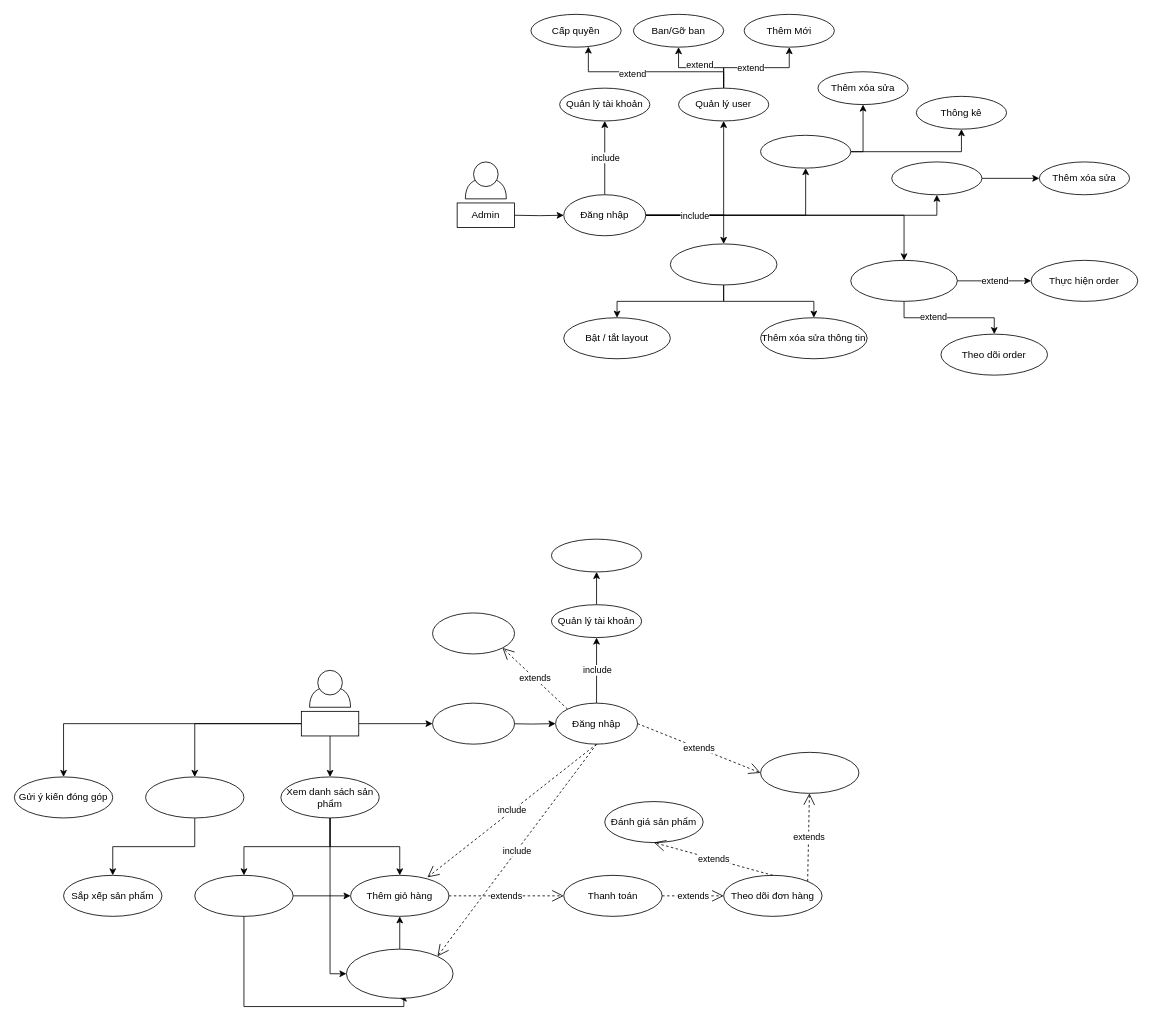
Some shapes in this 1152 by 1027 pixel diagram are drawn without their labels. The shapes that lost their labels are listed below. From the top down, each one's box as (x1, y1, x2, y2) in pixels, then its label:
(760, 134, 851, 168): Quản lý sản phẩm
(891, 161, 982, 195): Quản lý danh mục
(670, 243, 777, 285): Quản lý thông tin web
(850, 260, 957, 301): Quản lý order
(551, 538, 642, 572): Sửa / Xóa / Cập nhật
(432, 612, 515, 654): Quên mật khẩu
(301, 711, 359, 736): User
(432, 702, 515, 744): Đăng ký
(760, 752, 859, 793): Xem lịch sử đơn hàng
(145, 776, 244, 818): Tìm kiếm sản phẩm
(194, 875, 293, 916): Xem chi tiết sản phẩm
(346, 948, 453, 998): Thêm danh sách yêu thích
